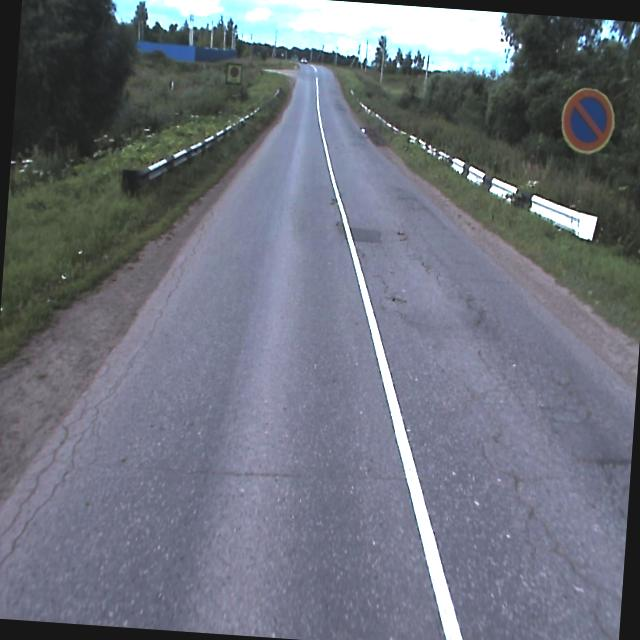road: (0, 63, 635, 640)
